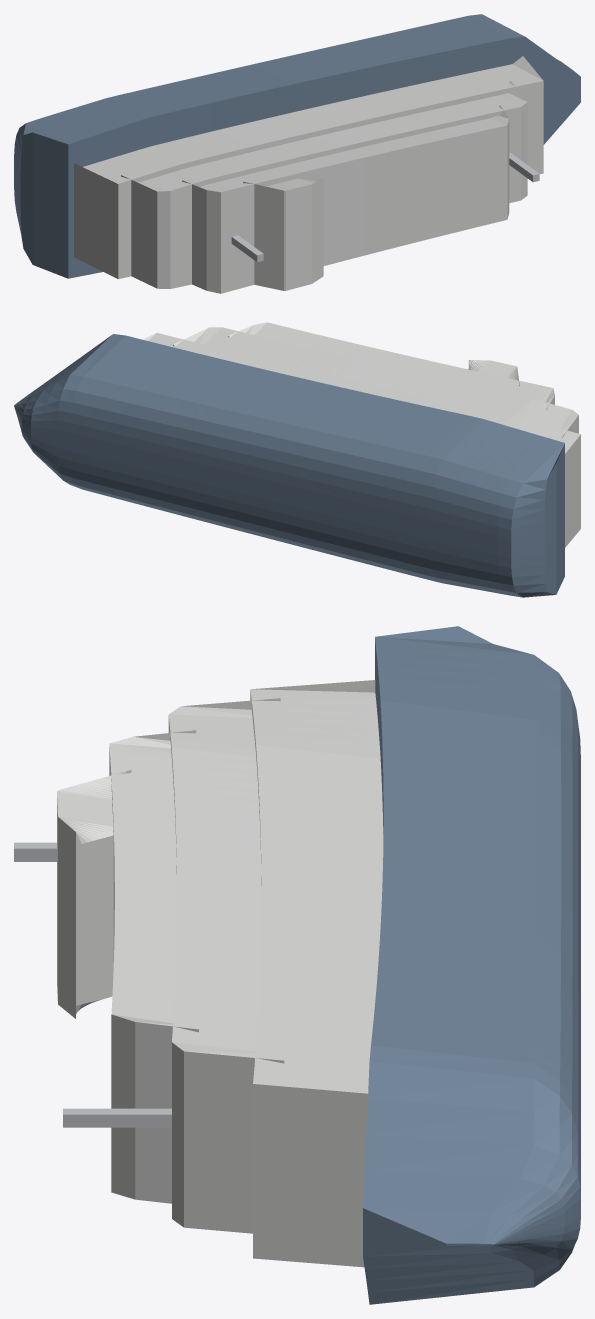
The model's file is loft-cruise-ship-highside.glb.
The picture shows the model from 3 angles, top to bottom: view 1: azimuth 30°, elevation 25°; view 2: azimuth 150°, elevation 25°; view 3: azimuth 270°, elevation 25°; orthographic projection. The views are drawn at different scales.
Visible parts, largest first — view 1: loft-cruise-ship-highside; view 2: loft-cruise-ship-highside; view 3: loft-cruise-ship-highside.
Part boxes in pixels (x1,y1,x2,y2): loft-cruise-ship-highside: (14, 14, 580, 293); loft-cruise-ship-highside: (14, 322, 580, 597); loft-cruise-ship-highside: (14, 626, 580, 1304).
Size of the model in its own units: 1.95 by 0.5049 by 0.9463.
